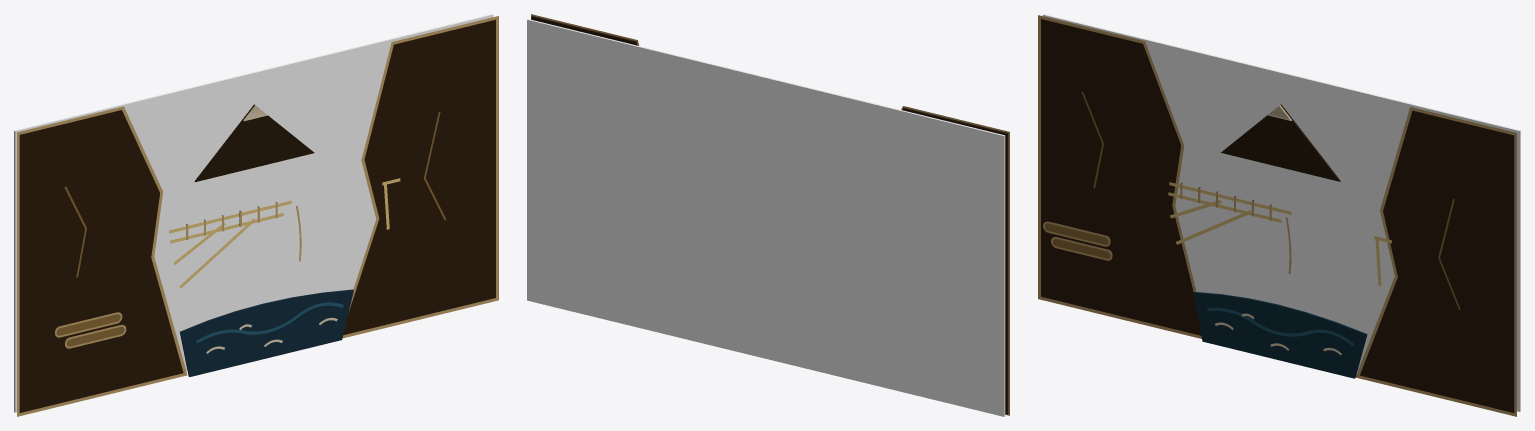
The model's file is loc-gornaya-reka-most.glb.
The picture shows the model from 3 angles, left to right: view 1: azimuth 30°, elevation 25°; view 2: azimuth 150°, elevation 25°; view 3: azimuth 330°, elevation 25°; orthographic projection.
Visible parts, largest first — view 1: loc-gornaya-reka-most; view 2: loc-gornaya-reka-most; view 3: loc-gornaya-reka-most.
Boxes of the visible parts, x1,y1,x2,y2 form: loc-gornaya-reka-most: (14,14,498,416); loc-gornaya-reka-most: (527,14,1009,416); loc-gornaya-reka-most: (1038,14,1520,416).
Size of the model in its own units: 5.37 by 3.03 by 0.421.
